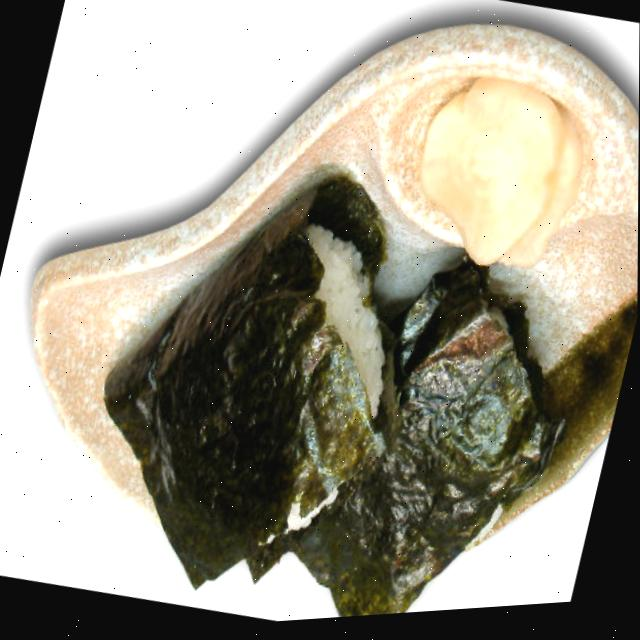米饭主食: (49, 126, 441, 637), (278, 238, 606, 625)
